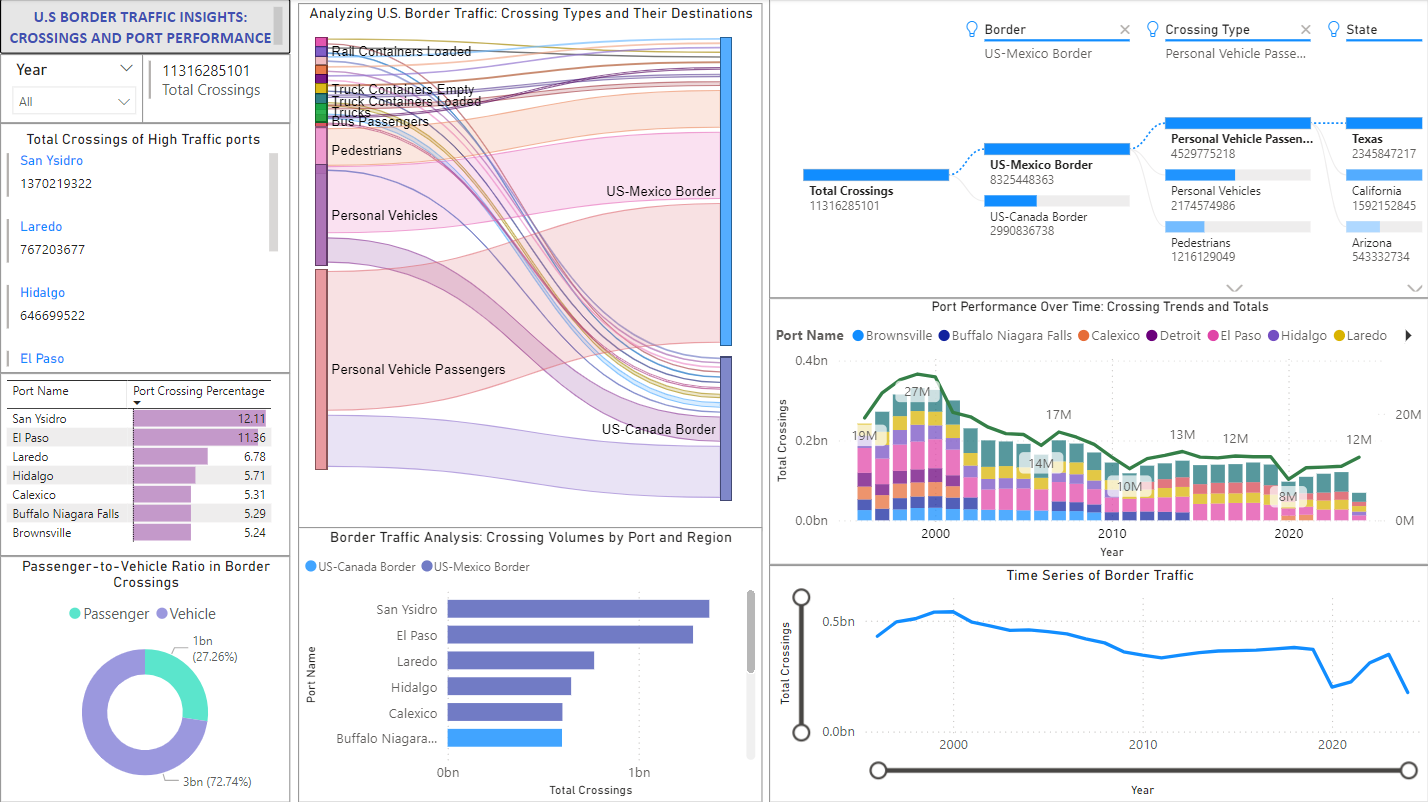

Layout of this report page (visuals, bound fields, positions):
{"tool":"powerbi","page":{"name":"Page 1","canvas":[1280,720],"ordinal":0},"visuals":[{"type":"sankey02300D1BE6F5427989F3DE31CCA9E0F32020","title":"Analyzing U.S. Border Traffic: Crossing Types and Their Destinations","fields":{"Source":["Border_Crossing_Entry_Data.Crossing Type"],"Destination":["Border_Crossing_Entry_Data.Border"],"Weight":["Border_Crossing_Entry_Data.Total Crossings"]},"box":[266.9,3.6,415.5,472.8],"z":0},{"type":"lineChart","title":"Time Series of Border Traffic","fields":{"Y":["Border_Crossing_Entry_Data.Total Crossings"],"Category":["Border_Crossing_Entry_Data.Date.Variation.Date Hierarchy.Year"]},"box":[688.7,506.9,591,213.1],"z":1000},{"type":"donutChart","title":"Passenger-to-Vehicle Ratio in Border Crossings","fields":{"Category":["Border_Crossing_Entry_Data.Passenger or Vehicle"],"Y":["Border_Crossing_Entry_Data.Total Passengers","Border_Crossing_Entry_Data.Total Vehicles"]},"box":[0,498.8,259.7,221.2],"z":2000},{"type":"lineStackedColumnComboChart","title":"Port Performance Over Time: Crossing Trends and Totals","fields":{"Category":["Border_Crossing_Entry_Data.Date.Variation.Date Hierarchy.Year"],"Y":["Border_Crossing_Entry_Data.Total Crossings"],"Y2":["Border_Crossing_Entry_Data.Crossing Trend (3-Month Moving Average)"],"Series":["Border_Crossing_Entry_Data.Port Name"]},"box":[688.7,267.8,591,239.1],"z":3000},{"type":"slicer","fields":{"Values":["Border_Crossing_Entry_Data.Year"]},"box":[0,49.3,133.4,61.8],"z":4000},{"type":"multiRowCard","fields":{"Values":["Border_Crossing_Entry_Data.Total Crossings"]},"box":[127.2,49.3,132.5,61.8],"z":5000},{"type":"decompositionTreeVisual","fields":{"Analyze":["Border_Crossing_Entry_Data.Total Crossings"],"ExplainBy":["Border_Crossing_Entry_Data.Border","Border_Crossing_Entry_Data.Crossing Type","Border_Crossing_Entry_Data.State"]},"box":[688.7,0,591,267.8],"z":6000},{"type":"pivotTable","fields":{"Rows":["Border_Crossing_Entry_Data.Port Name"],"Values":["Border_Crossing_Entry_Data.Port Crossing Percentage"]},"box":[0,334.9,259.7,163.9],"z":7000},{"type":"map","title":"Border Traffic Analysis: Crossing Volumes by Port and Region","fields":{"Category":["Border_Crossing_Entry_Data.Port Name"],"Series":["Border_Crossing_Entry_Data.Border"],"Size":["Border_Crossing_Entry_Data.Total Crossings"],"Y":["Avg(Border_Crossing_Entry_Data.Latitude)"],"X":["Avg(Border_Crossing_Entry_Data.Longitude)"]},"box":[266.9,472.8,415.5,247.2],"z":8000},{"type":"multiRowCard","title":"Total Crossings of High Traffic ports","fields":{"Values":["Border_Crossing_Entry_Data.Port Name","Border_Crossing_Entry_Data.Total Crossings"]},"box":[0,111,259.7,223.9],"z":9000},{"type":"textbox","box":[0,0,259.7,49.3],"z":10000}]}

Visuals, with their boxes in screenshot pixels (x1, y1, x2, y2), scaled from the page's 1280x720 canvas onto the 1428x802 screenshot:
"Analyzing U.S. Border Traffic: Crossing Types and Their Destinations" sankey02300D1BE6F5427989F3DE31CCA9E0F32020: 298, 4, 761, 531
"Time Series of Border Traffic" lineChart: 768, 565, 1427, 801
"Passenger-to-Vehicle Ratio in Border Crossings" donutChart: 0, 556, 290, 801
"Port Performance Over Time: Crossing Trends and Totals" lineStackedColumnComboChart: 768, 298, 1427, 565
slicer - Border_Crossing_Entry_Data.Year: 0, 55, 149, 124
multiRowCard - Border_Crossing_Entry_Data.Total Crossings: 142, 55, 290, 124
decompositionTreeVisual - Border_Crossing_Entry_Data.Total Crossings x Border_Crossing_Entry_Data.Border: 768, 0, 1427, 298
pivotTable - Border_Crossing_Entry_Data.Port Name x Border_Crossing_Entry_Data.Port Crossing Percentage: 0, 373, 290, 556
"Border Traffic Analysis: Crossing Volumes by Port and Region" map: 298, 527, 761, 801
"Total Crossings of High Traffic ports" multiRowCard: 0, 124, 290, 373
textbox: 0, 0, 290, 55
